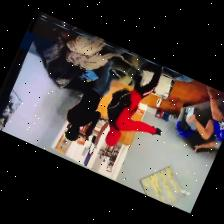person: (66, 56, 123, 140), (106, 64, 162, 145), (187, 86, 223, 139), (84, 144, 94, 165)
